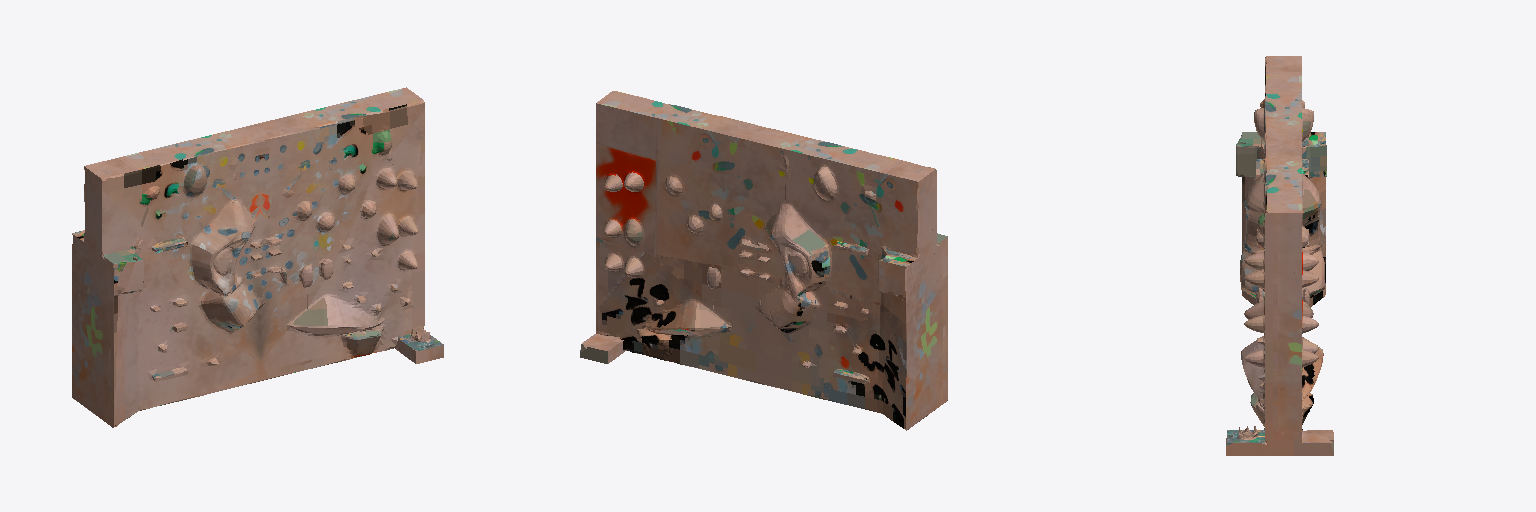
The picture shows the model from 3 angles: view 1: azimuth 30°, elevation 25°; view 2: azimuth 150°, elevation 25°; view 3: azimuth 270°, elevation 25°; orthographic projection.
Parts seen in each view (by area): view 1: model; view 2: model; view 3: model.
Boxes of the visible parts, x1=… form: model: x1=72, y1=87, x2=443, y2=427; model: x1=580, y1=91, x2=947, y2=430; model: x1=1226, y1=56, x2=1333, y2=455.
Bounding box in the file's own units: 1.9 × 1.37 × 0.5461.
Materials: 1 (1 with a texture image).